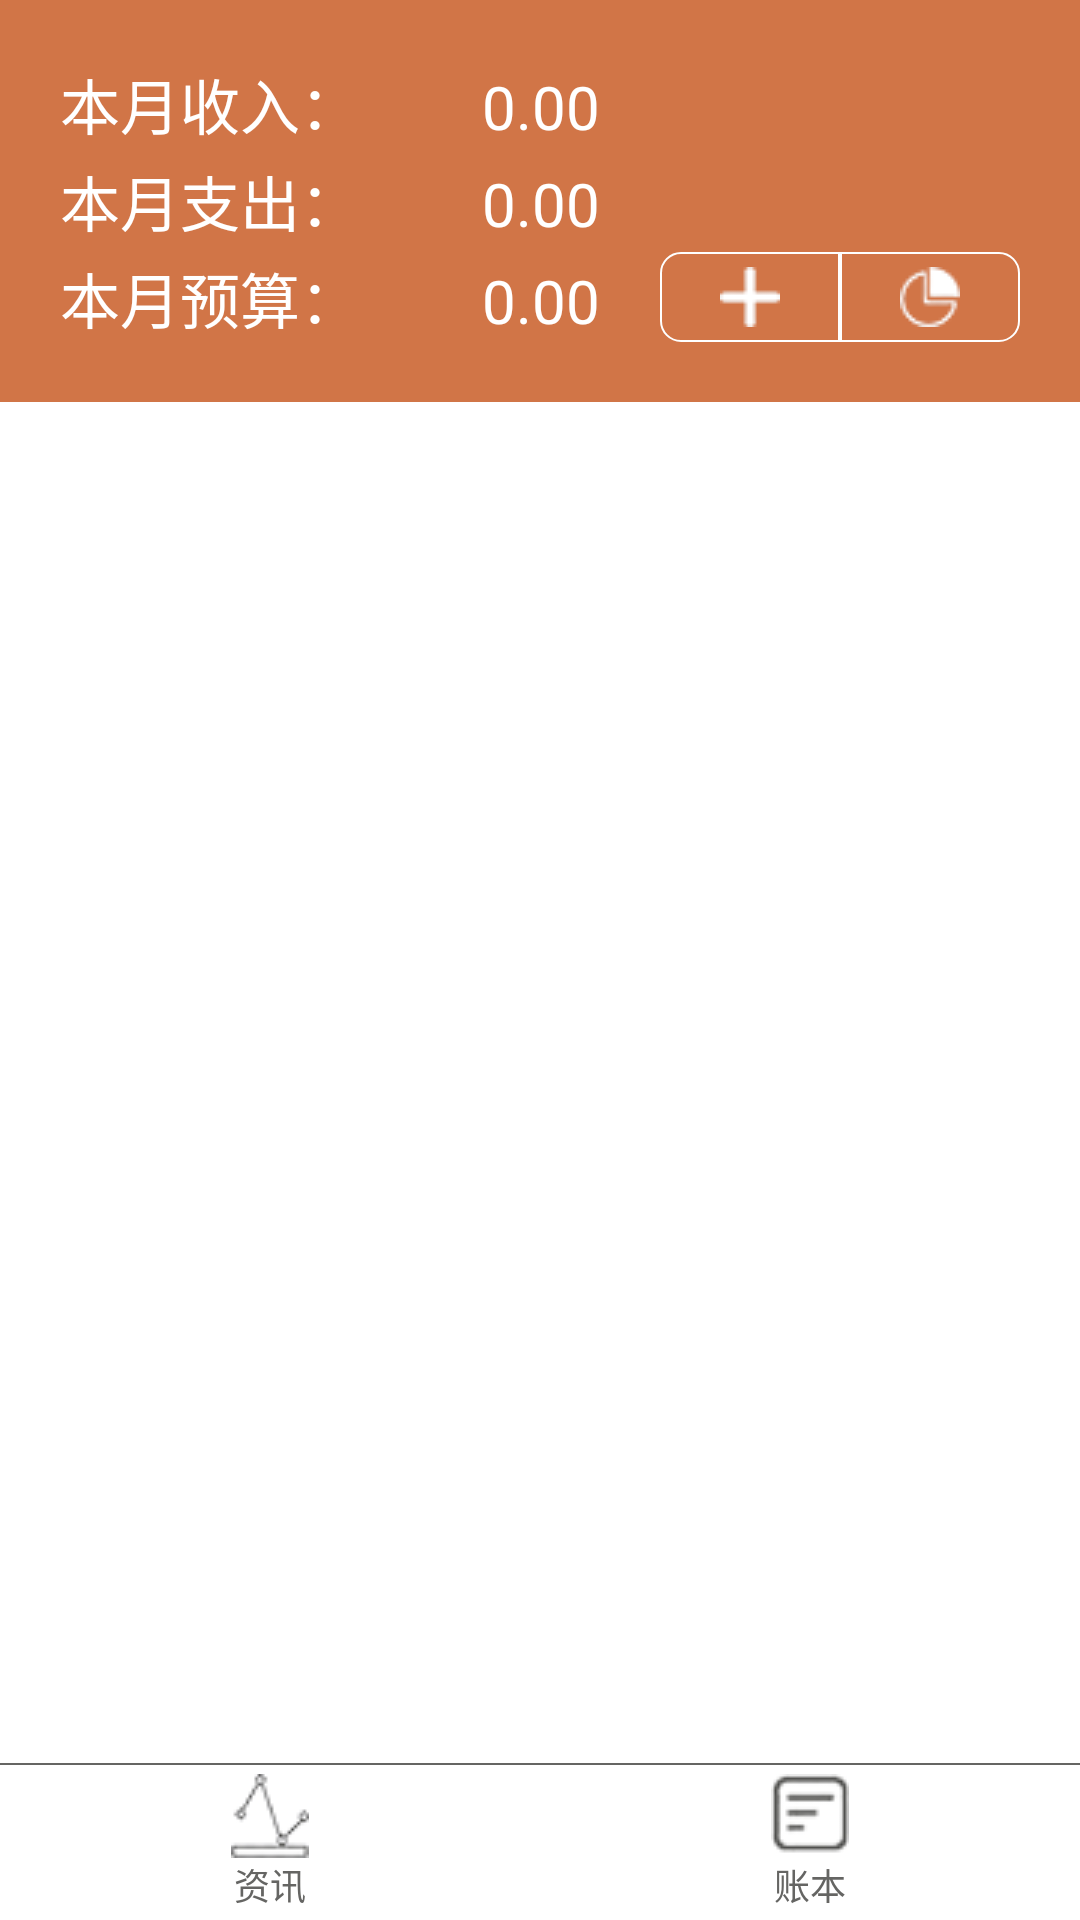

Where icons sit on this 1080px x 1920px app screen, as (x1, y1, x2, y2):
to graphical: (900, 267, 960, 327)
to record: (720, 267, 780, 327)
